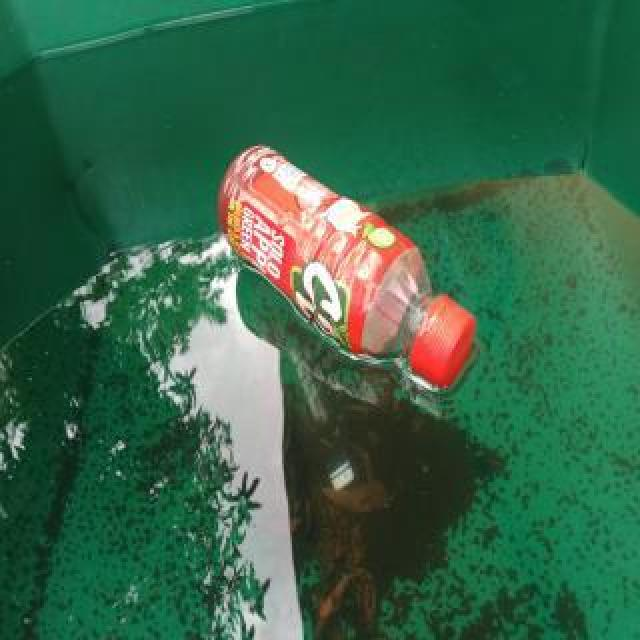bottle: (216, 142, 478, 390)
